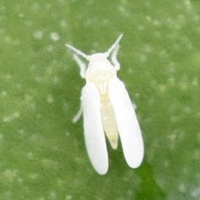insect: (66, 33, 143, 173)
